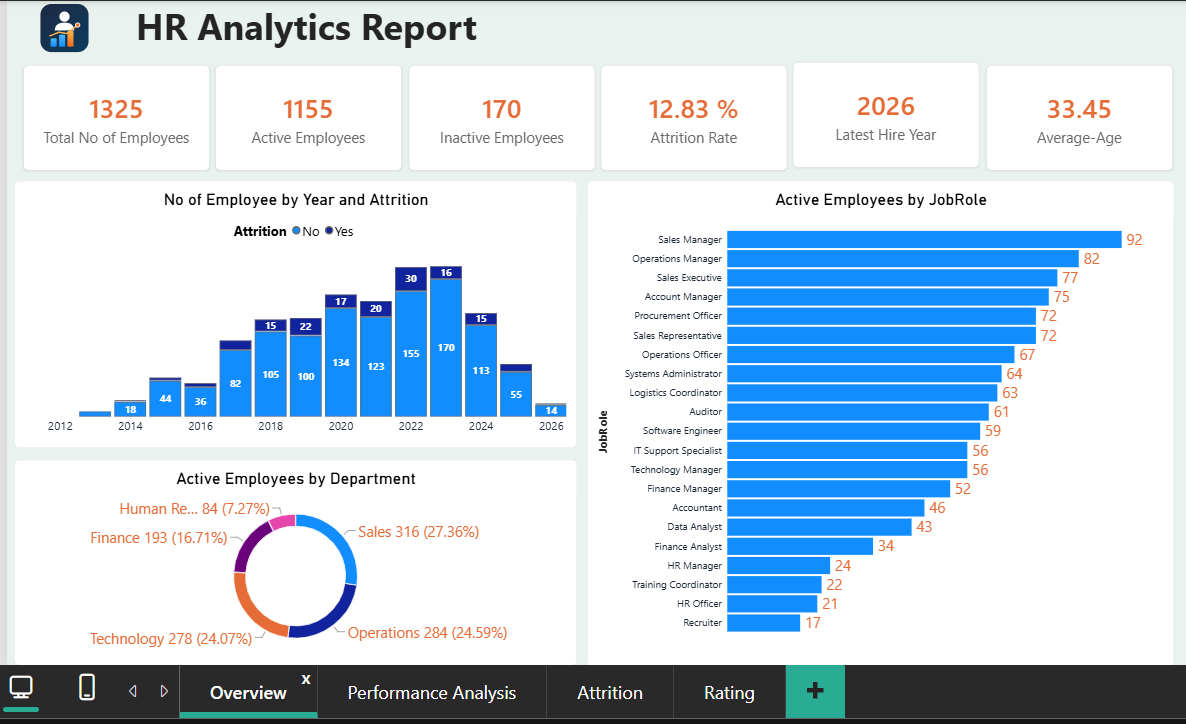

The page's visual inventory and layout, read from the dashboard file:
{"tool":"powerbi","page":{"name":"Overview","canvas":[1920,1080],"ordinal":0},"visuals":[{"type":"columnChart","title":"No of Employee by Year and Attrition","fields":{"Category":["Employee.Hire Year"],"Series":["Employee.Attrition"],"Y":["Count(Employee.EmployeeID)"]},"box":[12.2,292.8,914.9,434.3],"z":0},{"type":"card","fields":{"Values":["Measure_List.Total No of Employees"]},"box":[27.3,105.2,302.9,170.8],"z":1000,"group":"g2"},{"type":"clusteredBarChart","fields":{"Category":["Employee.JobRole"],"Y":["Measure_List.Active Employees"]},"box":[944.8,291.6,953.9,789.9],"z":1000},{"type":"donutChart","fields":{"Category":["Employee.Department"],"Y":["Measure_List.Active Employees"]},"box":[12.2,746.6,914.9,334.3],"z":2000},{"type":"group","id":"g1","title":"Group 1","box":[27.3,0,811.1,88.1],"z":3000},{"type":"card","fields":{"Values":["Measure_List.Active Employees"]},"box":[340.5,105.2,302.9,170.8],"z":3000,"group":"g2"},{"type":"textbox","box":[209.6,0,628.9,88.1],"z":4000,"group":"g1"},{"type":"group","id":"g2","title":"Group 2","box":[27.3,100.3,1871.4,176.2],"z":4000},{"type":"card","fields":{"Values":["Measure_List.Inactive Employees"]},"box":[653.7,105.2,302.9,170.8],"z":4000,"group":"g2"},{"type":"card","fields":{"Values":["Measure_List.Attrition Rate"]},"box":[966.9,105.2,302.9,170.8],"z":5000,"group":"g2"},{"type":"card","fields":{"Values":["Measure_List.Latest Hire Year"]},"box":[1280.1,100.3,302.9,170.8],"z":7000,"group":"g2"},{"type":"card","fields":{"Values":["Employee.Average-Age"]},"box":[1593.3,105.2,302.9,170.8],"z":9000,"group":"g2"},{"type":"image","box":[27.3,0,133.7,88.1],"z":11001,"group":"g1"}]}

Visuals, with their boxes on the page's 1920x1080 design canvas (x1, y1, x2, y2). These are canvas units, not pixel positions in the 1186x724 screenshot, which may show the page scaled, cropped or inside an application window:
"No of Employee by Year and Attrition" columnChart: pyautogui.locateOnScreen(12, 293, 927, 727)
card - Measure_List.Total No of Employees: pyautogui.locateOnScreen(27, 105, 330, 276)
clusteredBarChart - Employee.JobRole x Measure_List.Active Employees: pyautogui.locateOnScreen(945, 292, 1899, 1082)
donutChart - Employee.Department x Measure_List.Active Employees: pyautogui.locateOnScreen(12, 747, 927, 1081)
"Group 1" group: pyautogui.locateOnScreen(27, 0, 838, 88)
card - Measure_List.Active Employees: pyautogui.locateOnScreen(340, 105, 643, 276)
textbox: pyautogui.locateOnScreen(210, 0, 838, 88)
"Group 2" group: pyautogui.locateOnScreen(27, 100, 1899, 276)
card - Measure_List.Inactive Employees: pyautogui.locateOnScreen(654, 105, 957, 276)
card - Measure_List.Attrition Rate: pyautogui.locateOnScreen(967, 105, 1270, 276)
card - Measure_List.Latest Hire Year: pyautogui.locateOnScreen(1280, 100, 1583, 271)
card - Employee.Average-Age: pyautogui.locateOnScreen(1593, 105, 1896, 276)
image: pyautogui.locateOnScreen(27, 0, 161, 88)
